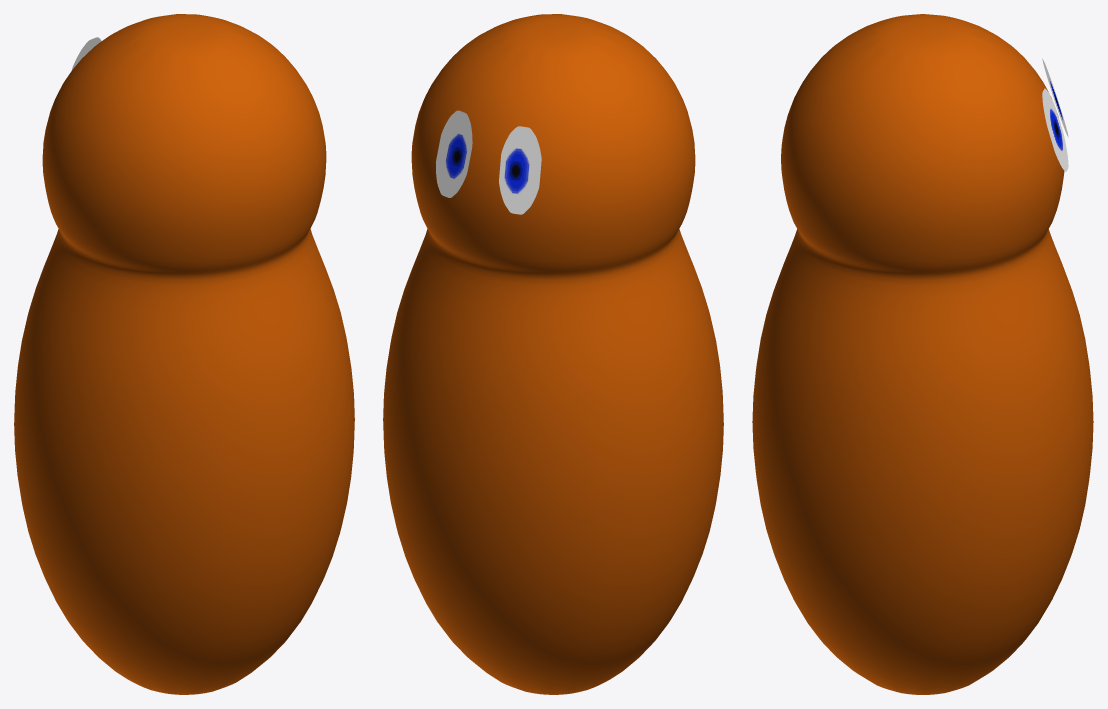
The model's file is leafy.obj.
The picture shows the model from 3 angles, left to right: view 1: azimuth 30°, elevation 25°; view 2: azimuth 150°, elevation 25°; view 3: azimuth 270°, elevation 25°; orthographic projection.
Visible parts, largest first — view 1: leafy; view 2: leafy; view 3: leafy.
Boxes of the visible parts, x1,y1,x2,y2 form: leafy: (14,14,354,694); leafy: (383,14,723,694); leafy: (752,14,1093,694).
Size of the model in its own units: 0.5732 by 1.21 by 0.5732.
